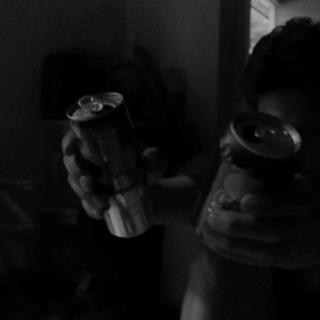alumunium_can: (195, 109, 298, 251), (65, 89, 156, 239)
